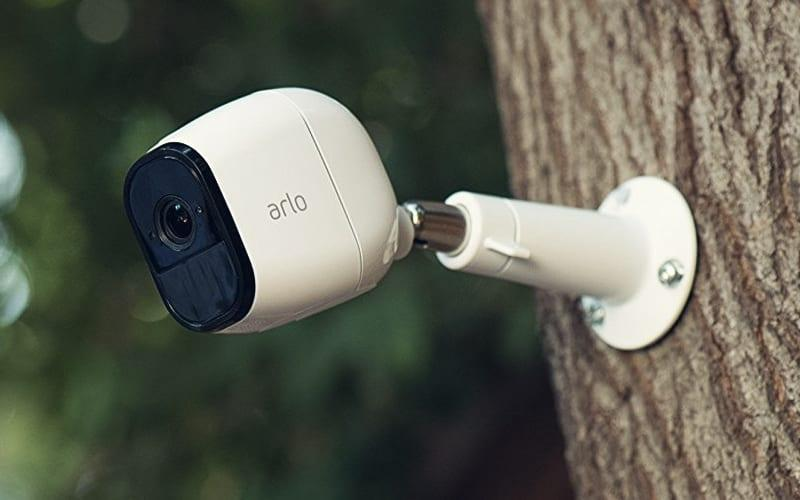CCTV: (121, 54, 419, 345)
